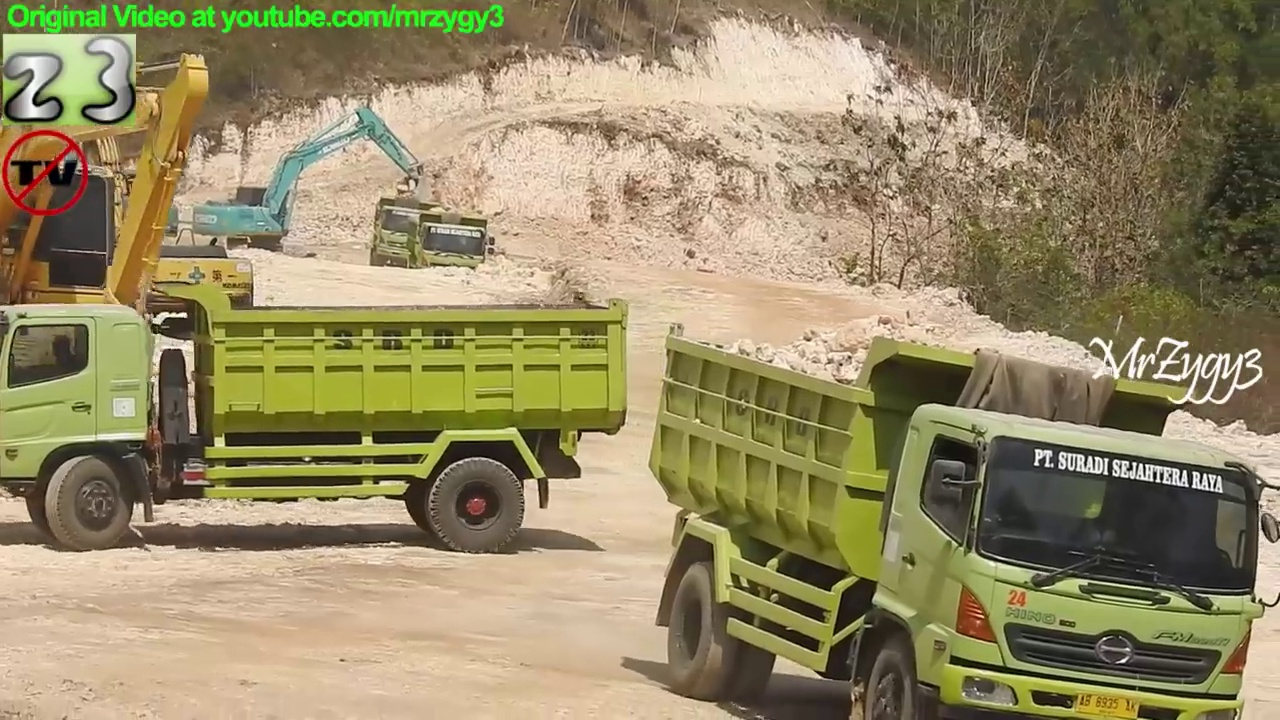excavator: (1, 44, 219, 496), (1, 54, 258, 358), (189, 100, 433, 265), (13, 62, 199, 255)
truck: (644, 320, 1280, 720), (1, 272, 634, 555), (409, 206, 495, 288), (369, 193, 447, 275)
